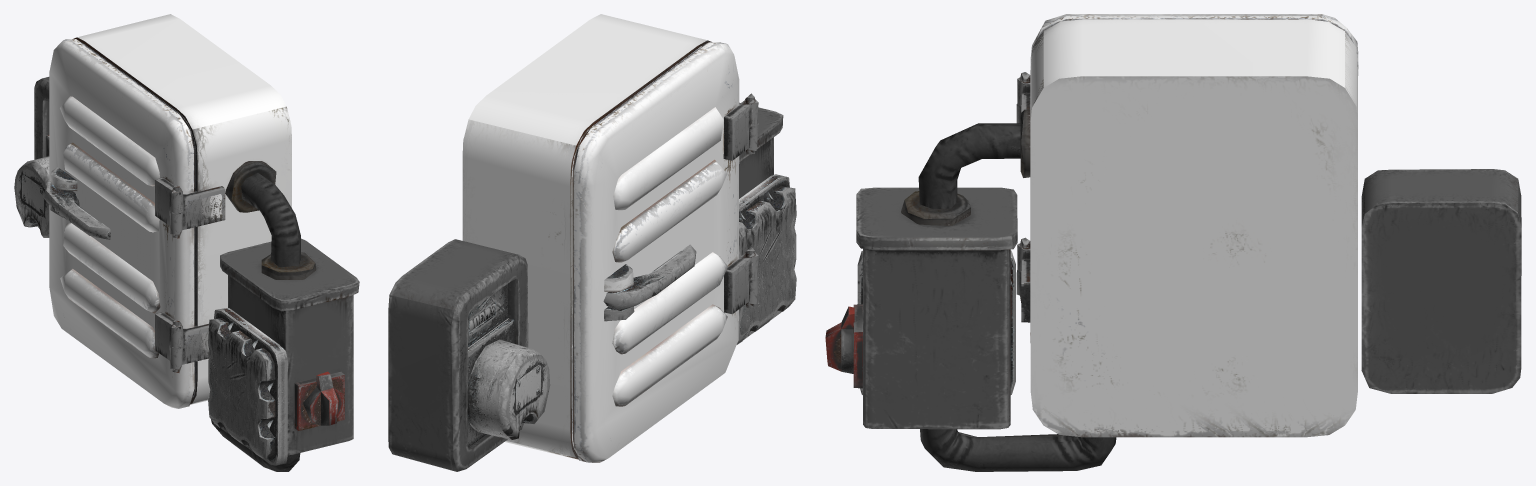
The model's file is SM_Electric_Box1.fbx.
3 renders of one model, left to right at view 1: azimuth 30°, elevation 25°; view 2: azimuth 150°, elevation 25°; view 3: azimuth 270°, elevation 25°, orthographic. The views are drawn at different scales.
Parts seen in each view (by area): view 1: SM_Electric_Box1_LOD0; view 2: SM_Electric_Box1_LOD0; view 3: SM_Electric_Box1_LOD0.
Part boxes in pixels (left/top/right/bottom): SM_Electric_Box1_LOD0: left=14, top=14, right=359, bottom=471; SM_Electric_Box1_LOD0: left=388, top=14, right=796, bottom=471; SM_Electric_Box1_LOD0: left=825, top=14, right=1521, bottom=471.
Bounding box in the file's own units: 27.1 × 94.57 × 62.93.
1 material, 1 textured.
